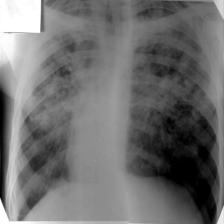tuberculosis: (0, 1, 221, 224)
